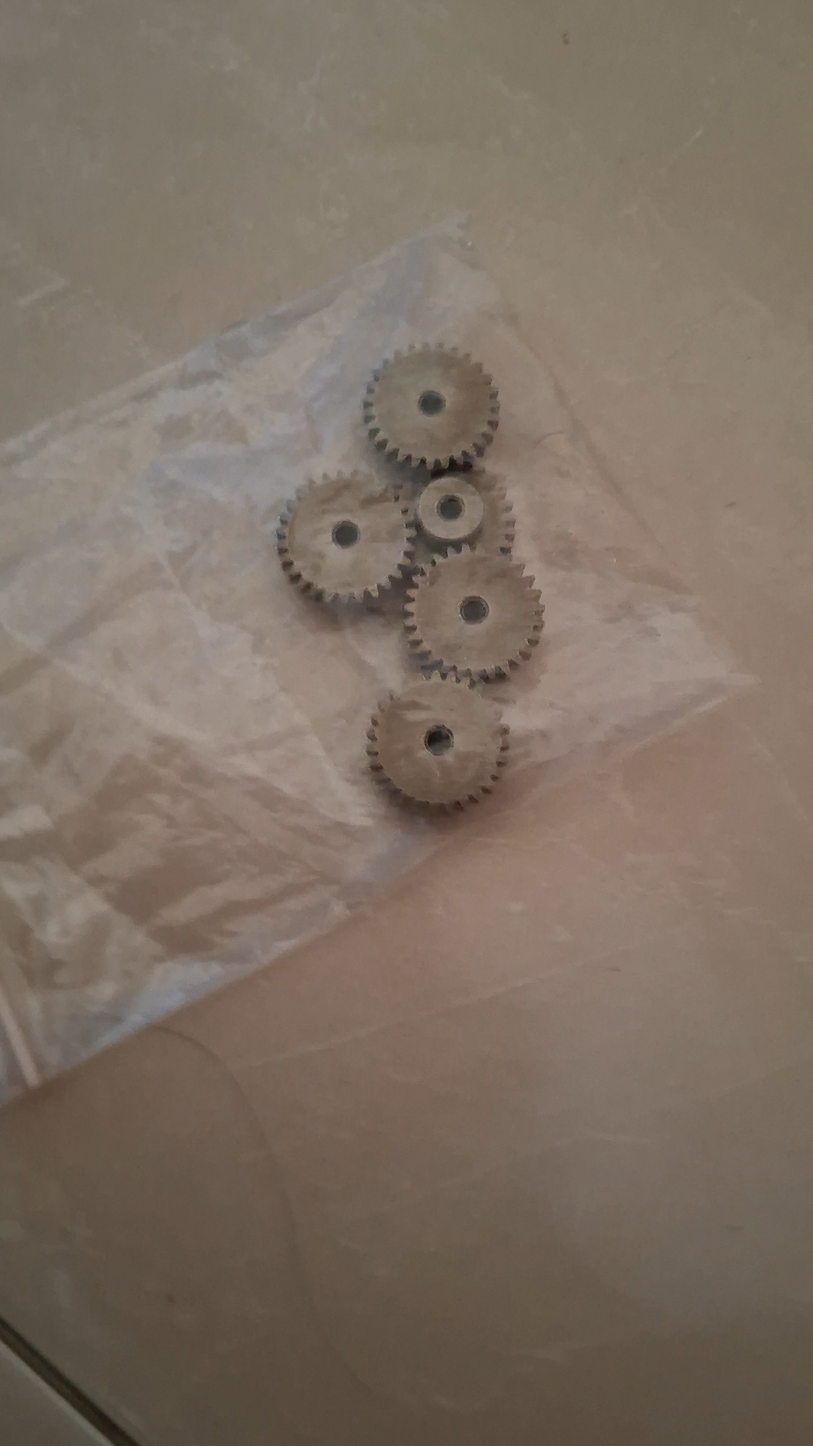spur gear: (367, 676, 508, 807), (405, 546, 543, 678), (277, 472, 414, 601), (363, 344, 499, 469), (415, 471, 514, 556)
